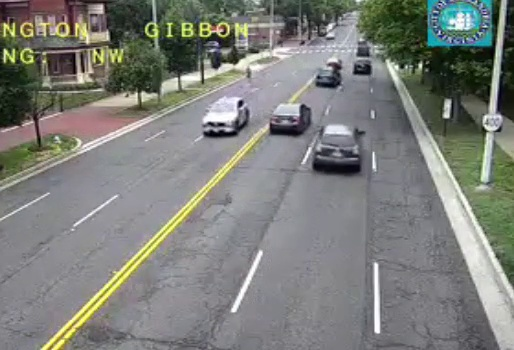car: (314, 126, 362, 168), (269, 103, 309, 132), (315, 68, 339, 86), (353, 59, 371, 74)
